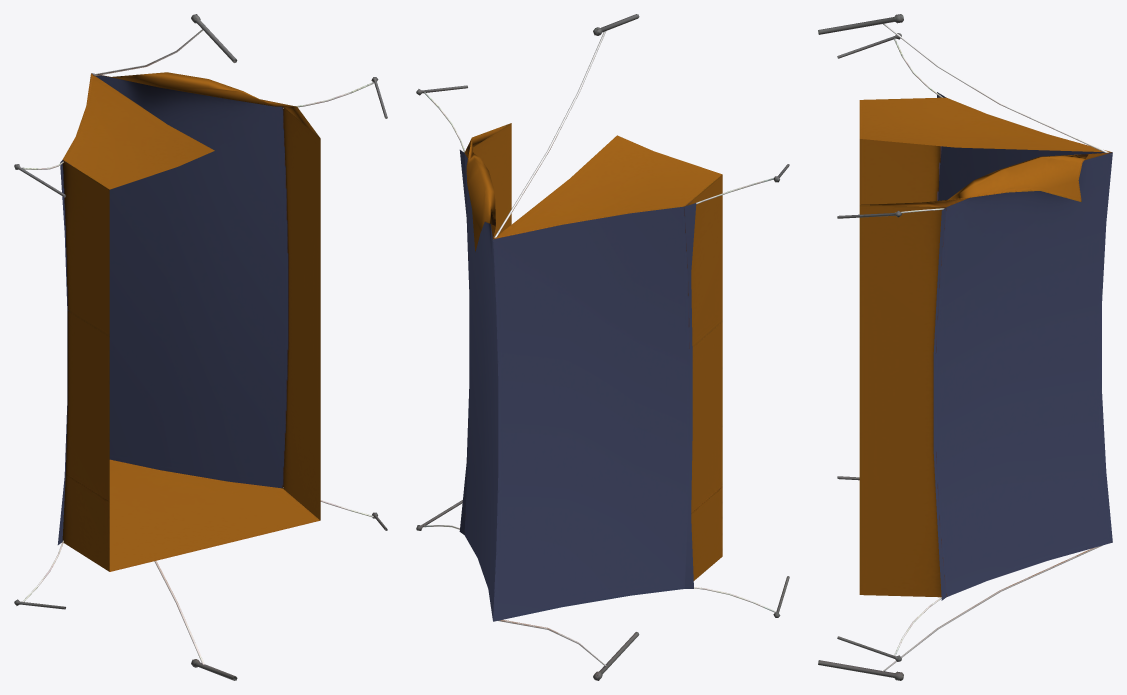
File: tenda1.fbx
3 renders of one model, left to right at view 1: azimuth 30°, elevation 25°; view 2: azimuth 150°, elevation 25°; view 3: azimuth 270°, elevation 25°, orthographic. The views are drawn at different scales.
Visible parts, largest first — view 1: Plane; view 2: Plane; view 3: Plane.
Part boxes in pixels (bbox=[...]): Plane: bbox=[14, 14, 387, 680]; Plane: bbox=[416, 14, 789, 680]; Plane: bbox=[818, 14, 1112, 680].
Size of the model in its own units: 953 by 1635 by 657.
